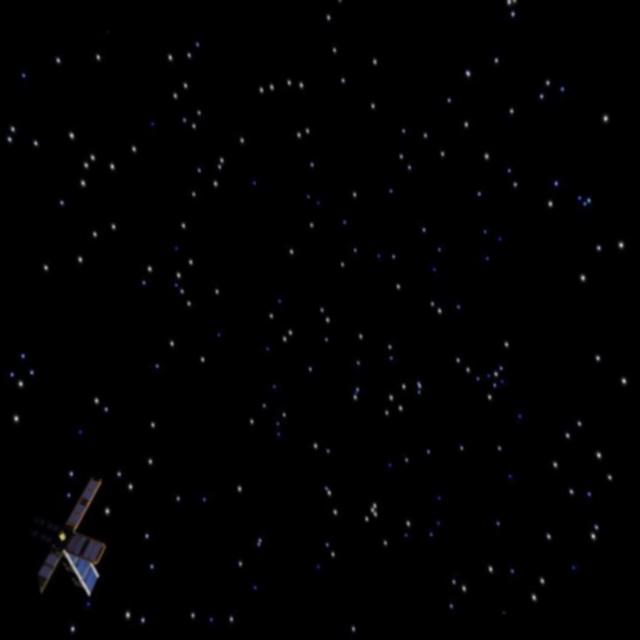satellite: (24, 476, 118, 610)
